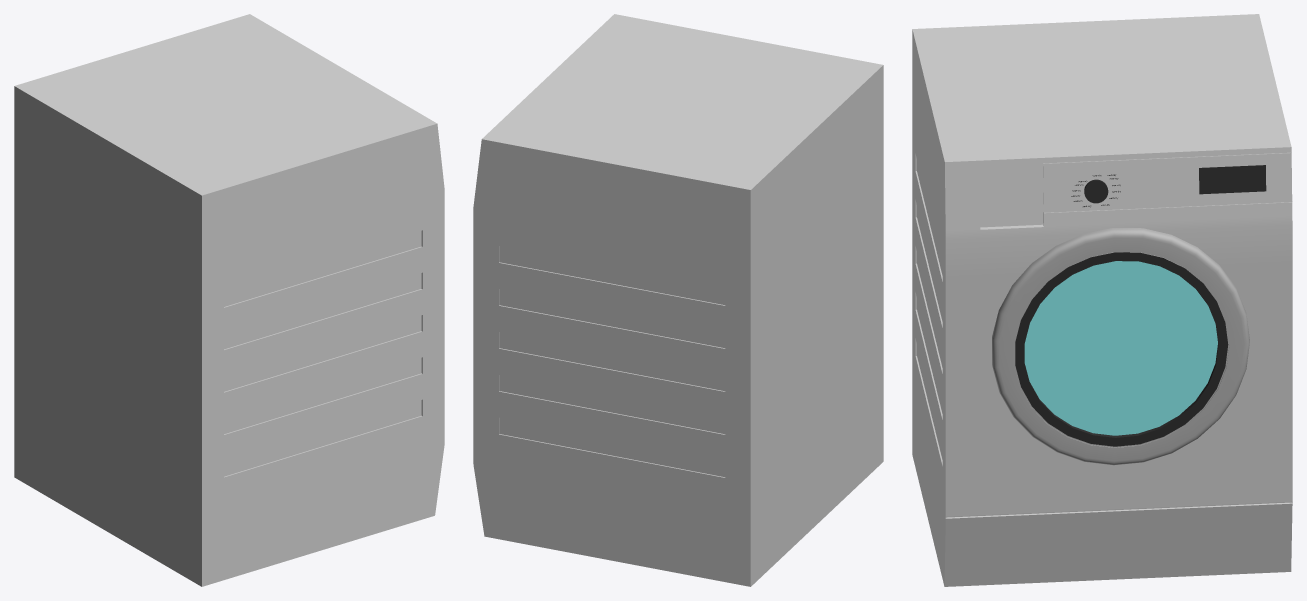
The picture shows the model from 3 angles, left to right: view 1: azimuth 30°, elevation 25°; view 2: azimuth 150°, elevation 25°; view 3: azimuth 270°, elevation 25°; orthographic projection. The views are drawn at different scales.
Visible parts, largest first — view 1: Box003; view 2: Box003; view 3: Box003, Cylinder006, Cylinder005, Box004.
Boxes of the visible parts, box(x1,y1,x2,y2) form: Box003: box(14, 14, 444, 586); Box003: box(473, 14, 883, 586); Box003: box(912, 14, 1292, 586); Cylinder006: box(1024, 261, 1217, 435); Cylinder005: box(992, 228, 1249, 465); Box004: box(1199, 165, 1266, 194).
Size of the model in its own units: 30107 by 38842 by 31399.
